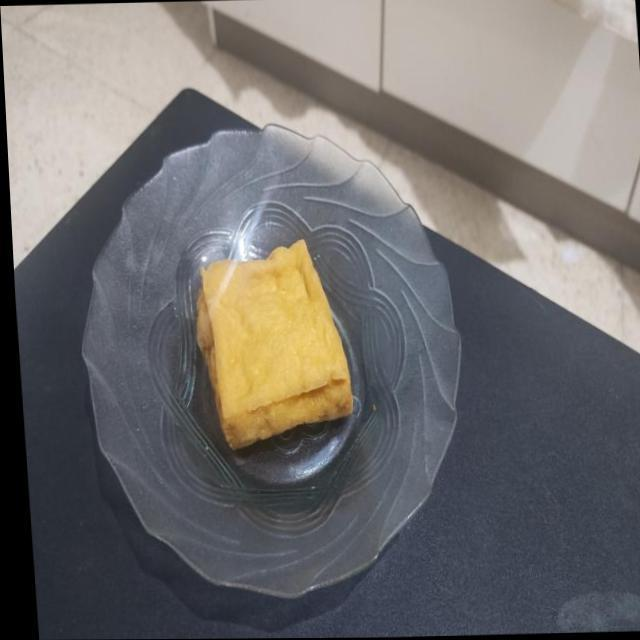tahu_goreng: (196, 238, 352, 448)
